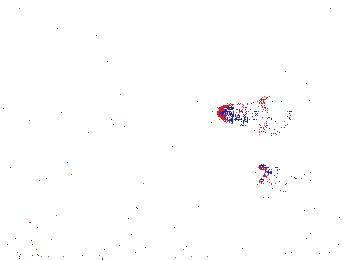flame jellyfish: (69, 171, 154, 228), (217, 93, 301, 139), (257, 160, 322, 215)
